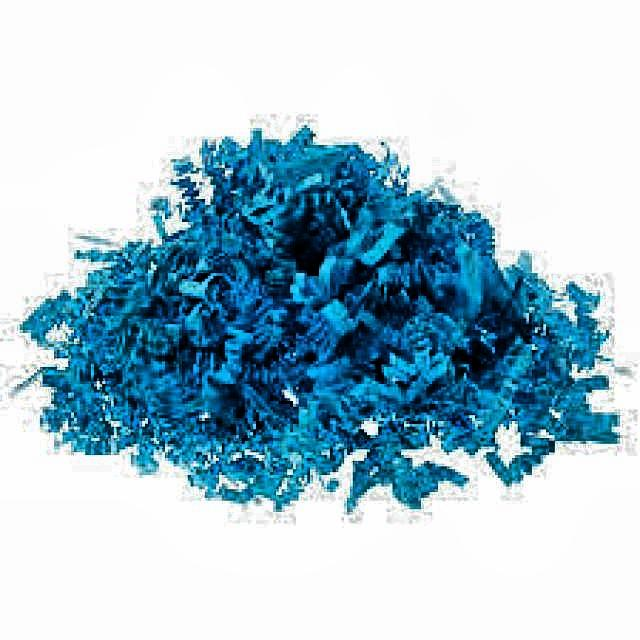Paper: (6, 122, 620, 515)
